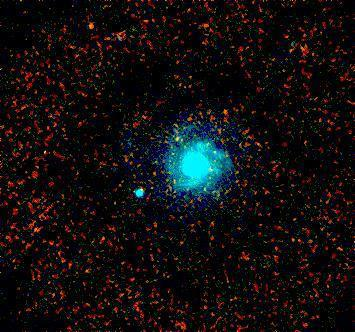star: (74, 10, 104, 40)
